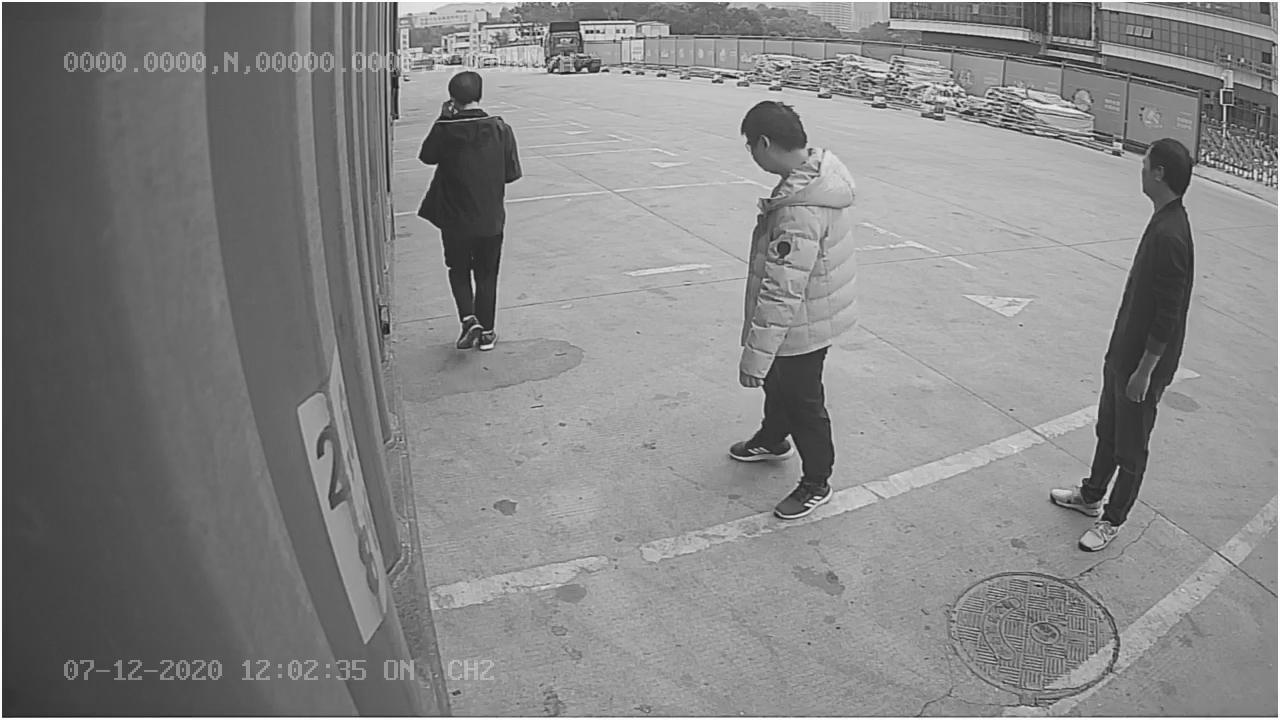person: (1042, 140, 1203, 553), (725, 96, 858, 522), (419, 73, 527, 350)
